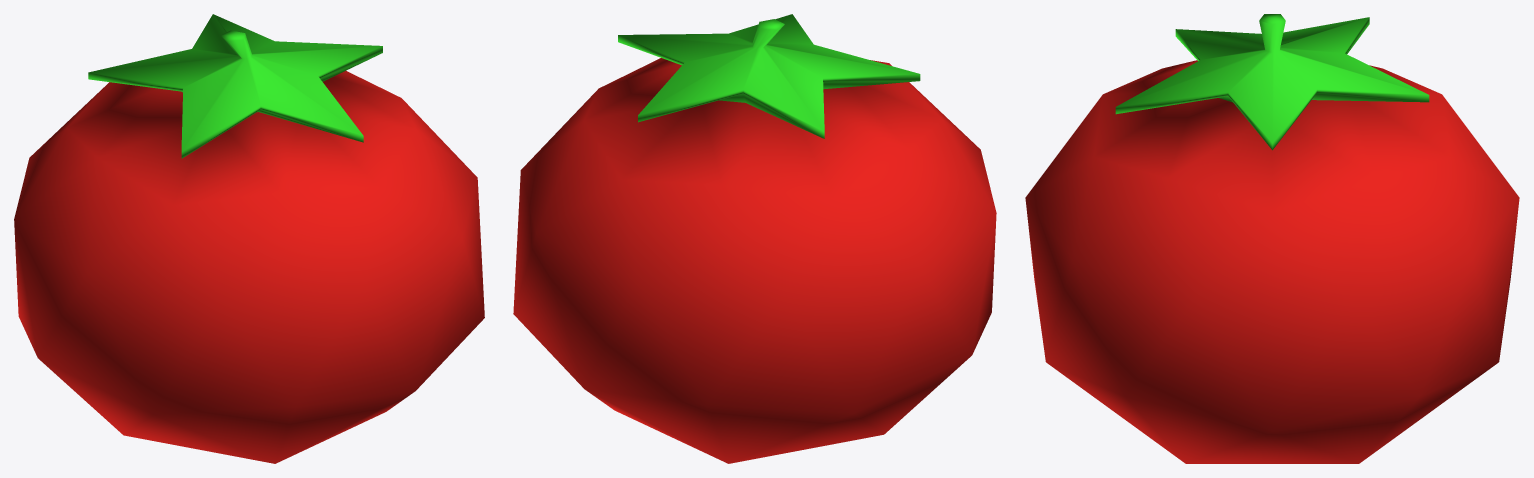
Rendered from tomato.fbx.
3 views of the same model, side by side, from view 1: azimuth 30°, elevation 25°; view 2: azimuth 150°, elevation 25°; view 3: azimuth 270°, elevation 25° (orthographic). The views are drawn at different scales.
Visible parts, largest first — view 1: Tomato; view 2: Tomato; view 3: Tomato.
Part boxes in pixels (x1=…): Tomato: x1=14, y1=14, x2=484, y2=463; Tomato: x1=513, y1=14, x2=996, y2=463; Tomato: x1=1025, y1=14, x2=1519, y2=463.
Bounding box in the file's own units: 12.44 × 12.58 × 11.07.
